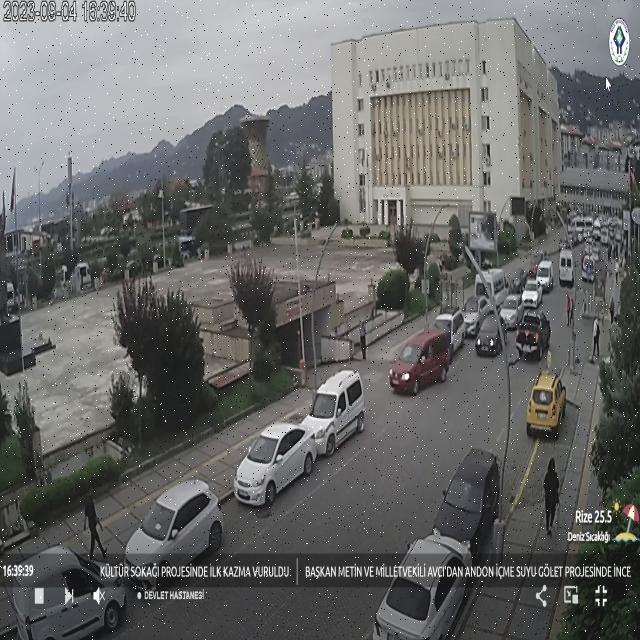Car: (371, 534, 474, 640), (125, 477, 225, 584), (432, 449, 502, 555), (225, 427, 322, 503), (389, 328, 452, 392), (525, 370, 567, 439), (516, 310, 550, 360), (433, 308, 466, 351), (474, 313, 506, 357), (460, 295, 493, 335), (499, 294, 525, 328), (521, 278, 543, 308), (536, 260, 554, 290)
Van: (8, 546, 128, 638), (303, 371, 365, 453)
